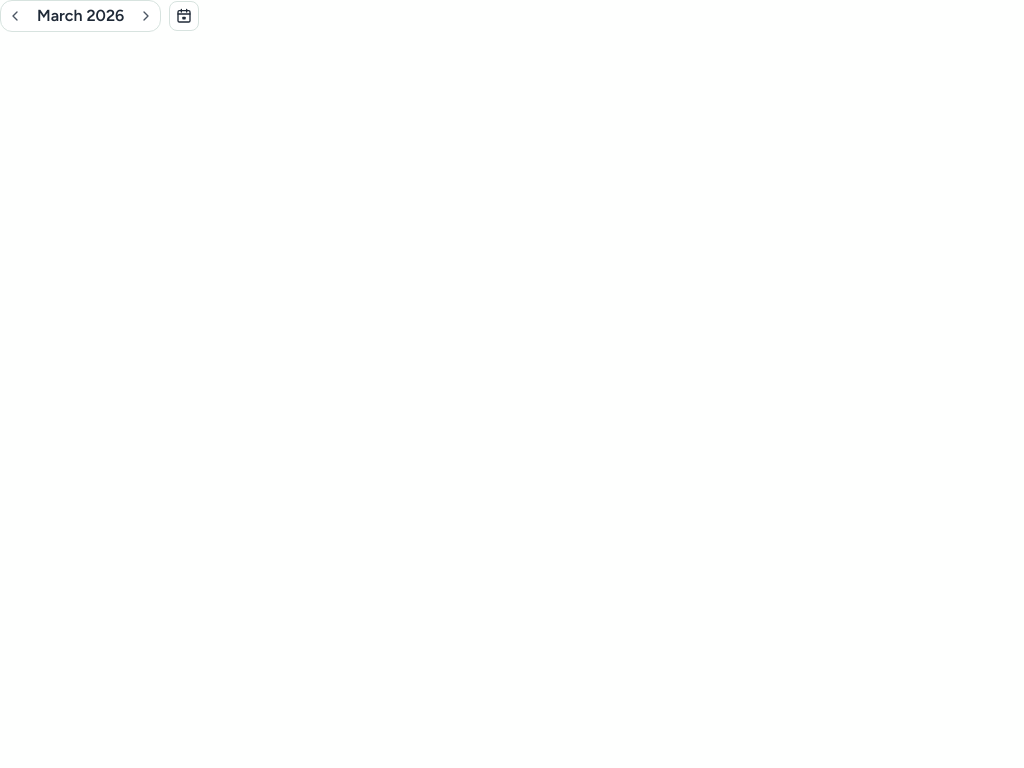
Test case: DateStepper › month jump sheet › body scrolls independently of the sheet, capped so it never grows unbounded past the viewport
Step 1. Click the button "March 2026" → coordinates (81, 16), box [29,4,132,28]
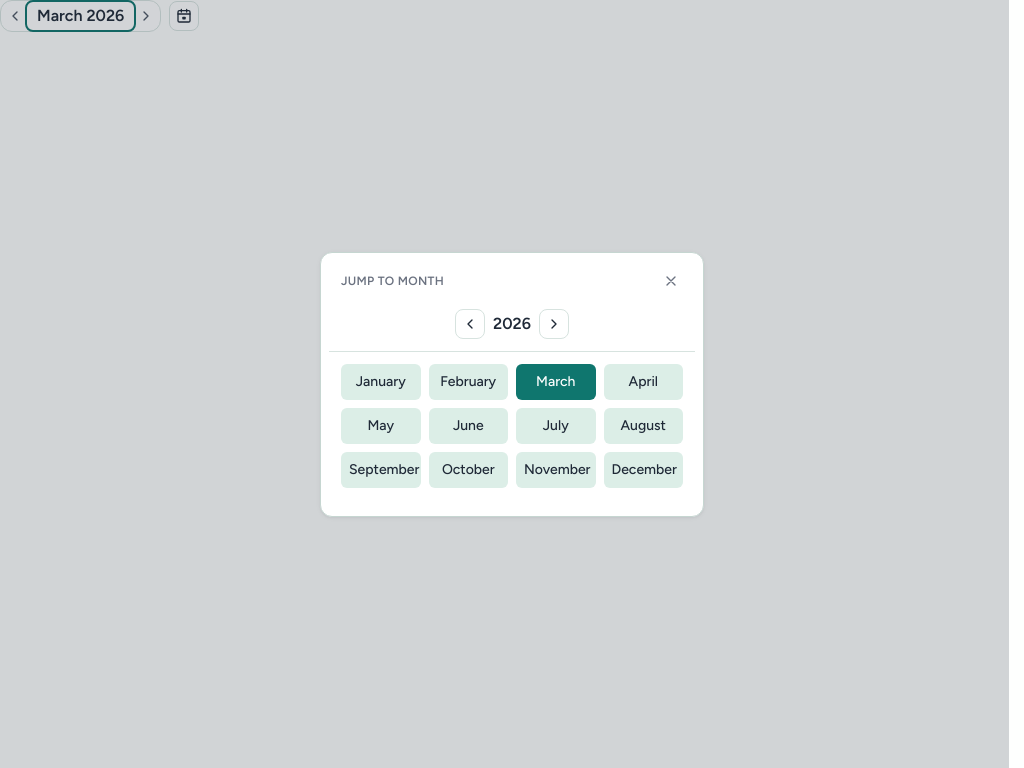
Now the element named "December" is shown, box [329,296,695,508]
